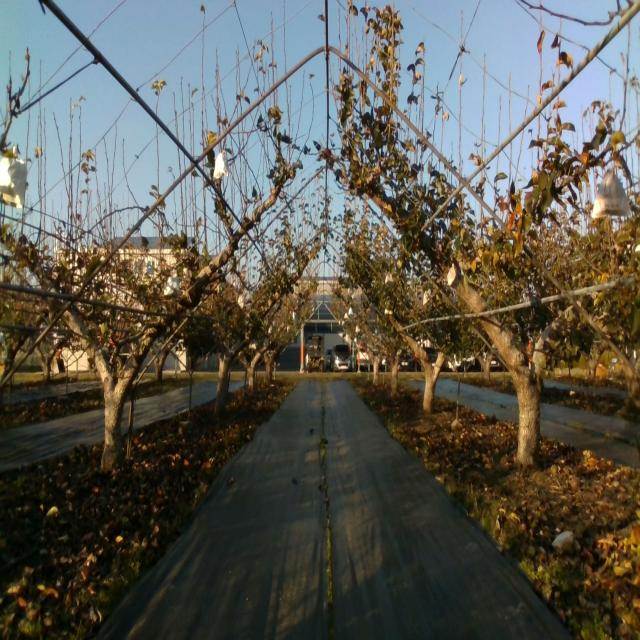pearbags: (591, 168, 632, 220), (0, 146, 28, 208), (164, 268, 179, 298), (213, 153, 229, 181), (446, 262, 458, 290)
